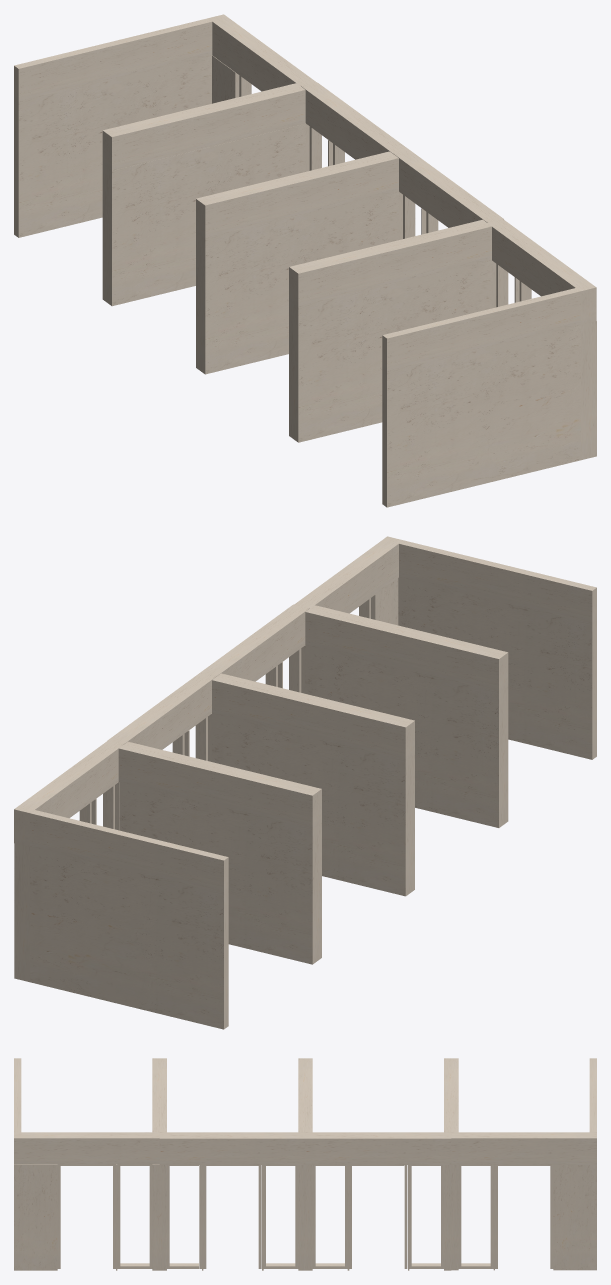
File: InnerWalls6.fbx
The picture shows the model from 3 angles, top to bottom: view 1: azimuth 30°, elevation 25°; view 2: azimuth 150°, elevation 25°; view 3: azimuth 270°, elevation 25°; orthographic projection. The views are drawn at different scales.
Parts seen in each view (by area): view 1: wall, top; view 2: wall, top; view 3: top, wall.
Part boxes in pixels (x1,y1,x2,y2): wall: (14, 55, 596, 507); top: (14, 14, 596, 372); wall: (14, 577, 596, 1029); top: (14, 536, 596, 894); top: (14, 1058, 596, 1164); wall: (14, 1164, 596, 1270).
Bounding box in the file's own units: 13.02 × 10 × 40.
